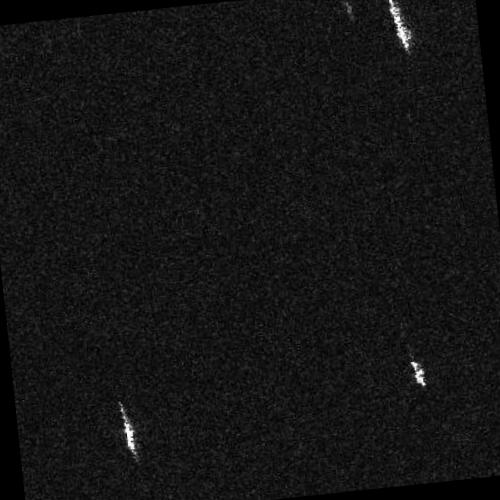ship: (116, 401, 141, 458), (386, 0, 412, 51), (407, 359, 427, 387)
